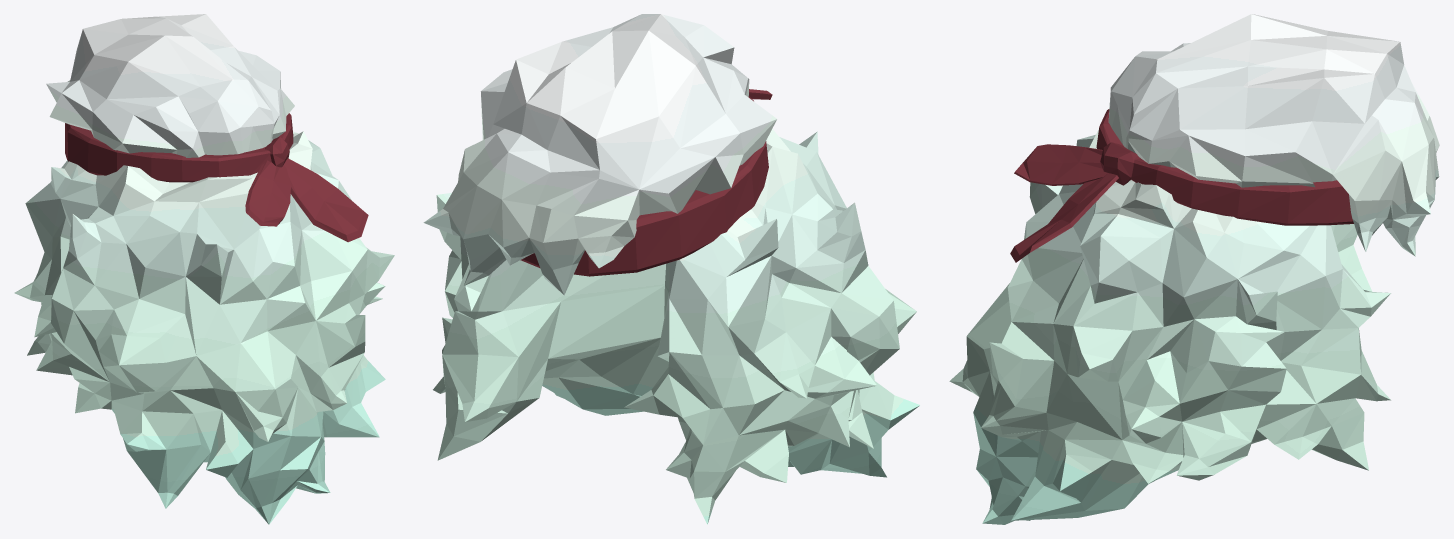
The model's file is CharSkyKid_Hair_AP14CurlyLong_01.glb.
3 renders of one model, left to right at view 1: azimuth 30°, elevation 25°; view 2: azimuth 150°, elevation 25°; view 3: azimuth 270°, elevation 25°, orthographic. The views are drawn at different scales.
Parts seen in each view (by area): view 1: CharSkyKid_Hair_AP14CurlyLong_01; view 2: CharSkyKid_Hair_AP14CurlyLong_01; view 3: CharSkyKid_Hair_AP14CurlyLong_01.
Boxes of the visible parts, bbox=[...] form: CharSkyKid_Hair_AP14CurlyLong_01: bbox=[14, 14, 394, 524]; CharSkyKid_Hair_AP14CurlyLong_01: bbox=[423, 14, 919, 524]; CharSkyKid_Hair_AP14CurlyLong_01: bbox=[949, 14, 1439, 524].
Bounding box in the file's own units: 4.68 × 5.4 × 4.79.
Materials: 1 (1 with a texture image).
